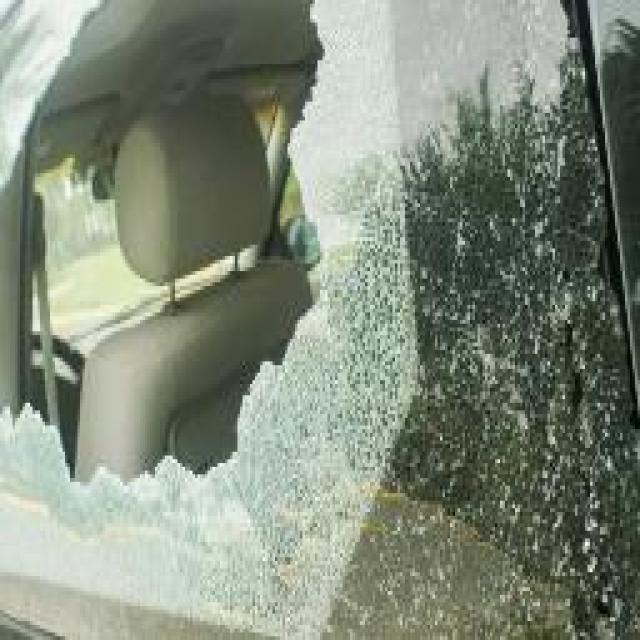Door: (2, 19, 615, 640)
